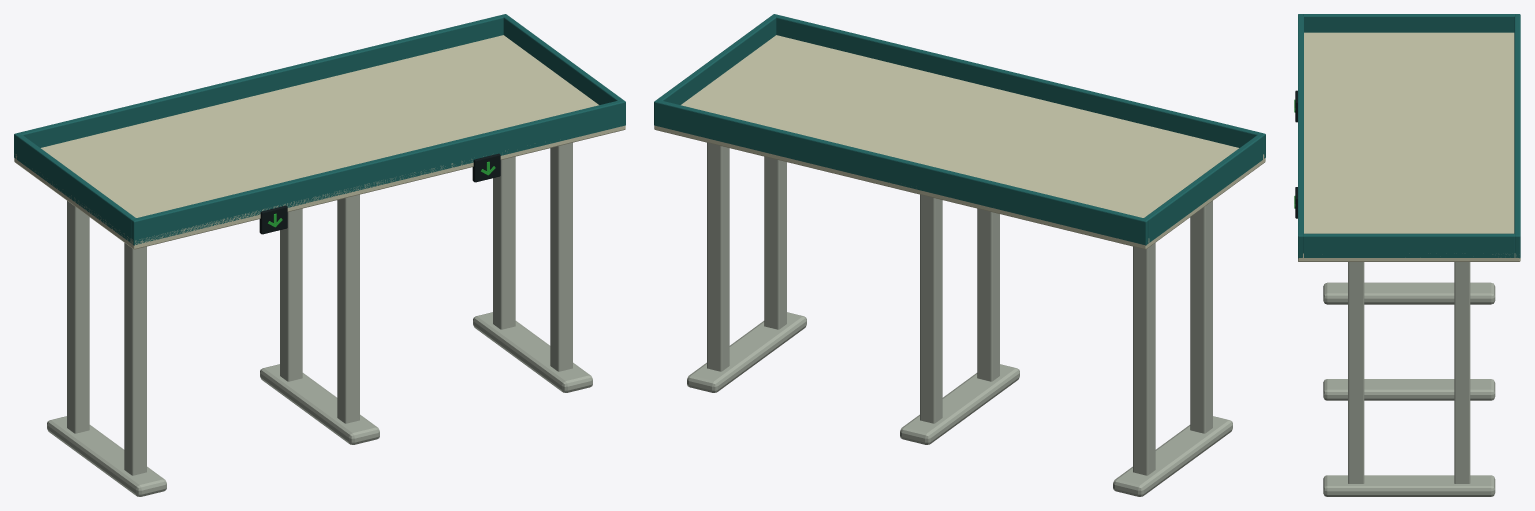
3 renders of one model, left to right at view 1: azimuth 30°, elevation 25°; view 2: azimuth 150°, elevation 25°; view 3: azimuth 270°, elevation 25°, orthographic. The views are drawn at different scales.
Parts seen in each view (by area): view 1: ROOF_Soffit, FASCIA_Teal, FASCIA_Teal.001, COLUMN_Canopy.001, COLUMN_Canopy.003, COLUMN_Canopy.005, COLUMN_Canopy.002, COLUMN_Canopy.004, COLUMN_Canopy, FASCIA_End, BASE_Island.001, BASE_Island.002 (+2 smaller); view 2: ROOF_Soffit, FASCIA_Teal.001, FASCIA_Teal, COLUMN_Canopy.002, COLUMN_Canopy.004, COLUMN_Canopy, COLUMN_Canopy.001, COLUMN_Canopy.003, COLUMN_Canopy.005, FASCIA_End, BASE_Island.001, BASE_Island.002 (+2 smaller); view 3: ROOF_Soffit, FASCIA_End.001, FASCIA_End, COLUMN_Canopy, COLUMN_Canopy.005, BASE_Island, BASE_Island.001, BASE_Island.002, FASCIA_Teal.001, FASCIA_Teal.
Boxes of the visible parts, x1=… form: ROOF_Soffit: x1=14, y1=35, x2=625, y2=249; FASCIA_Teal: x1=131, y1=99, x2=625, y2=245; FASCIA_Teal.001: x1=14, y1=14, x2=508, y2=158; COLUMN_Canopy.001: x1=124, y1=243, x2=146, y2=475; COLUMN_Canopy.003: x1=337, y1=194, x2=359, y2=423; COLUMN_Canopy.005: x1=550, y1=142, x2=572, y2=371; COLUMN_Canopy.002: x1=67, y1=201, x2=89, y2=433; COLUMN_Canopy.004: x1=280, y1=208, x2=302, y2=381; COLUMN_Canopy: x1=493, y1=156, x2=515, y2=329; FASCIA_End: x1=17, y1=134, x2=135, y2=242; BASE_Island.001: x1=47, y1=416, x2=166, y2=496; BASE_Island.002: x1=260, y1=364, x2=379, y2=444; ROOF_Soffit: x1=654, y1=35, x2=1265, y2=249; FASCIA_Teal.001: x1=654, y1=99, x2=1148, y2=245; FASCIA_Teal: x1=771, y1=14, x2=1265, y2=158; COLUMN_Canopy.002: x1=1133, y1=243, x2=1155, y2=475; COLUMN_Canopy.004: x1=920, y1=194, x2=942, y2=423; COLUMN_Canopy: x1=707, y1=142, x2=729, y2=371; COLUMN_Canopy.001: x1=1190, y1=201, x2=1212, y2=433; COLUMN_Canopy.003: x1=977, y1=208, x2=999, y2=381; COLUMN_Canopy.005: x1=764, y1=156, x2=786, y2=329; FASCIA_End: x1=1144, y1=134, x2=1262, y2=242; BASE_Island.001: x1=1113, y1=416, x2=1232, y2=496; BASE_Island.002: x1=900, y1=364, x2=1019, y2=444; ROOF_Soffit: x1=1298, y1=32, x2=1520, y2=261; FASCIA_End.001: x1=1303, y1=233, x2=1514, y2=257; FASCIA_End: x1=1303, y1=14, x2=1514, y2=32; COLUMN_Canopy: x1=1454, y1=262, x2=1470, y2=483; COLUMN_Canopy.005: x1=1348, y1=262, x2=1364, y2=483; BASE_Island: x1=1323, y1=475, x2=1495, y2=496; BASE_Island.001: x1=1323, y1=282, x2=1495, y2=304; BASE_Island.002: x1=1323, y1=379, x2=1495, y2=400; FASCIA_Teal.001: x1=1514, y1=14, x2=1520, y2=258; FASCIA_Teal: x1=1298, y1=14, x2=1303, y2=258.
Bounding box in the file's own units: 10.4 × 5.9 × 4.47.
